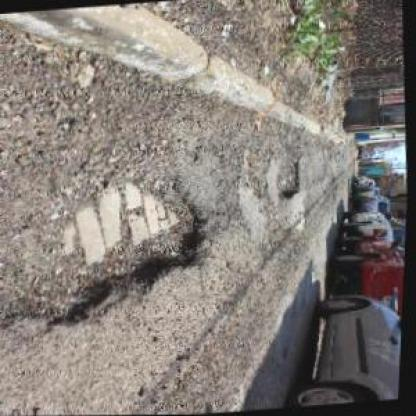pothole: (0, 159, 216, 338), (274, 158, 308, 203)
